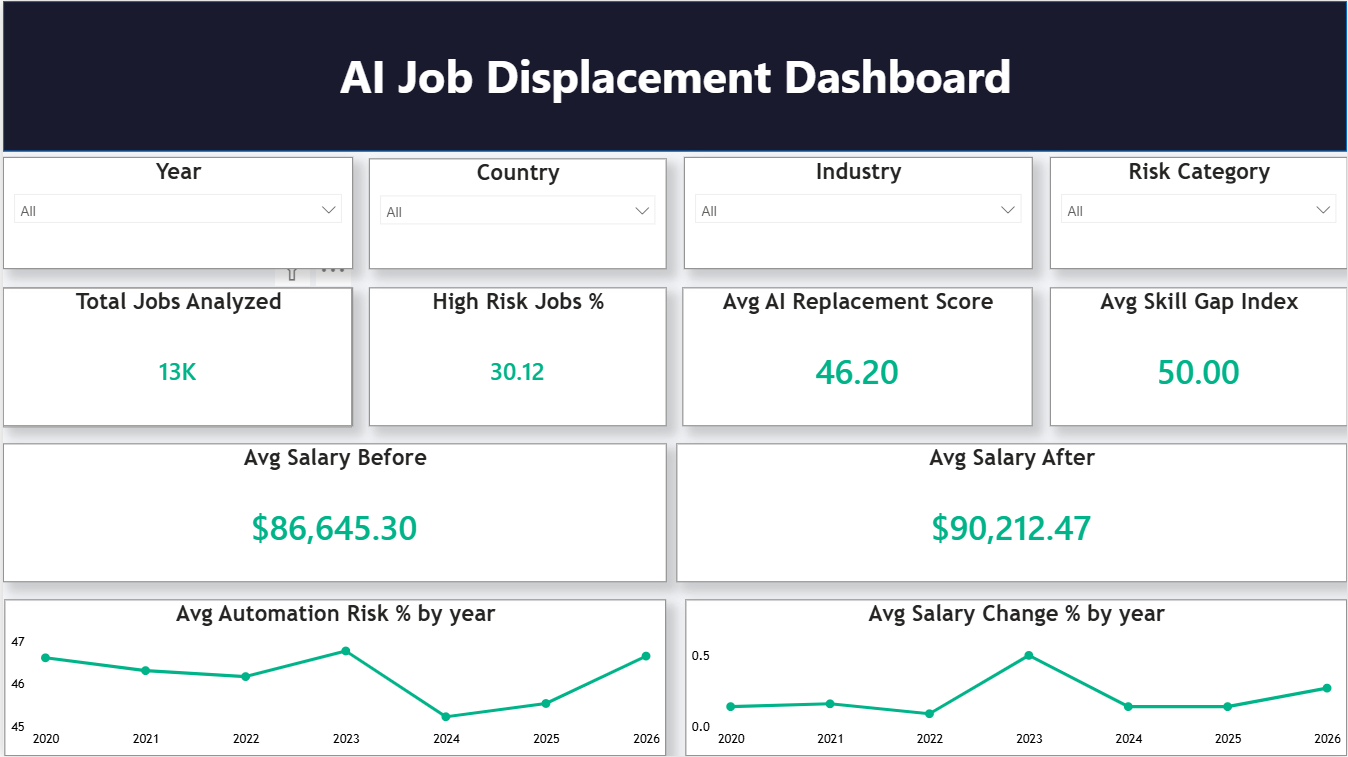

This screenshot's page, from the dashboard's own definition file:
{"tool":"powerbi","page":{"name":"Overview","canvas":[1280,720],"ordinal":0},"visuals":[{"type":"shape","box":[0,0,1280,143.3],"z":0,"group":"g1"},{"type":"cardVisual","title":"Total Jobs Analyzed","fields":{"Data":["Measures Table.Total Jobs"]},"box":[0,273.3,333.3,131.7],"z":0},{"type":"textbox","box":[300,0,681.7,138.6],"z":1000,"group":"g1"},{"type":"lineChart","fields":{"Category":["ai_jobs_dirty.year"],"Y":["Measures Table.Avg Automation Risk %"]},"box":[1.7,570,630,150],"z":1000},{"type":"cardVisual","title":"High Risk Jobs %","fields":{"Data":["Measures Table.High Risk %"]},"box":[348.3,273.3,283.3,131.7],"z":2000},{"type":"lineChart","fields":{"Category":["ai_jobs_dirty.year"],"Y":["Measures Table.Avg Salary Change %"]},"box":[650,570,630,150],"z":3000},{"type":"cardVisual","title":"Avg AI Replacement Score","fields":{"Data":["Measures Table.Avg AI Replacement Score"]},"box":[646.7,273.3,333.3,131.7],"z":4000},{"type":"cardVisual","title":"Avg Salary Before","fields":{"Data":["Measures Table.Avg Salary Before"]},"box":[0,421.7,631.7,131.7],"z":5000},{"type":"cardVisual","title":"Avg Salary After","fields":{"Data":["Measures Table.Avg Salary After"]},"box":[641.7,421.7,638.3,131.7],"z":6000},{"type":"cardVisual","title":"Avg Skill Gap Index","fields":{"Data":["Measures Table.Avg Skill Gap Index"]},"box":[996.7,273.3,283.3,131.7],"z":7000},{"type":"group","id":"g1","title":"Group 2","box":[0,0,1280,143.3],"z":8000},{"type":"slicer","title":"Year","fields":{"Values":["ai_jobs_dirty.year"]},"box":[0,148.3,333.3,106.7],"z":9000},{"type":"slicer","title":"Country","fields":{"Values":["ai_jobs_dirty.country"]},"box":[348.3,150,283.3,105],"z":10000},{"type":"slicer","title":"Industry","fields":{"Values":["ai_jobs_dirty.industry"]},"box":[648.3,148.3,331.7,106.7],"z":11000},{"type":"slicer","title":"Risk Category","fields":{"Values":["ai_jobs_dirty.automation_risk_category"]},"box":[996.7,148.3,283.3,106.7],"z":12000}]}

Visuals, with their boxes in screenshot pixels (x1, y1, x2, y2), scaled from the page's 1280x720 canvas onto the 1348x757 screenshot:
shape: x1=0, y1=0, x2=1347, y2=151
"Total Jobs Analyzed" cardVisual: x1=0, y1=287, x2=351, y2=426
textbox: x1=316, y1=0, x2=1034, y2=146
lineChart - ai_jobs_dirty.year x Measures Table.Avg Automation Risk %: x1=2, y1=599, x2=665, y2=756
"High Risk Jobs %" cardVisual: x1=367, y1=287, x2=665, y2=426
lineChart - ai_jobs_dirty.year x Measures Table.Avg Salary Change %: x1=685, y1=599, x2=1347, y2=756
"Avg AI Replacement Score" cardVisual: x1=681, y1=287, x2=1032, y2=426
"Avg Salary Before" cardVisual: x1=0, y1=443, x2=665, y2=582
"Avg Salary After" cardVisual: x1=676, y1=443, x2=1347, y2=582
"Avg Skill Gap Index" cardVisual: x1=1050, y1=287, x2=1347, y2=426
"Group 2" group: x1=0, y1=0, x2=1347, y2=151
"Year" slicer: x1=0, y1=156, x2=351, y2=268
"Country" slicer: x1=367, y1=158, x2=665, y2=268
"Industry" slicer: x1=683, y1=156, x2=1032, y2=268
"Risk Category" slicer: x1=1050, y1=156, x2=1347, y2=268
